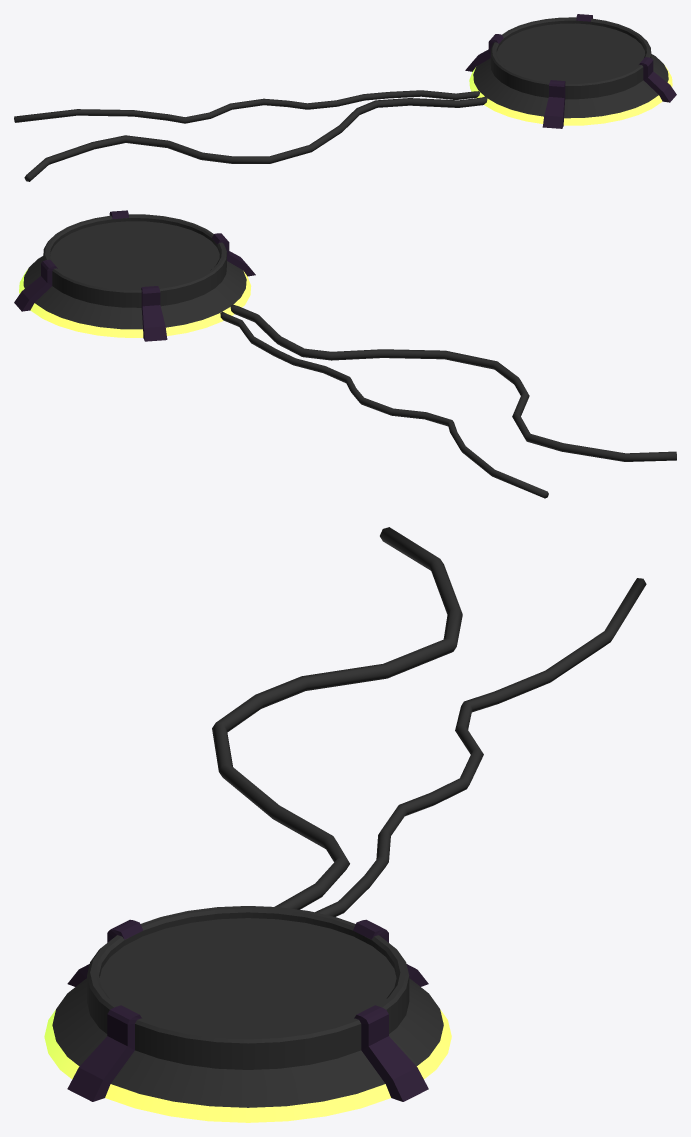
File: tank_stand.fbx
The picture shows the model from 3 angles, top to bottom: view 1: azimuth 30°, elevation 25°; view 2: azimuth 150°, elevation 25°; view 3: azimuth 270°, elevation 25°; orthographic projection. The views are drawn at different scales.
Visible parts, largest first — view 1: Cylinder.006; view 2: Cylinder.006; view 3: Cylinder.006.
Part boxes in pixels (<box>): Cylinder.006: <box>14,14,676,181</box>; Cylinder.006: <box>14,210,676,498</box>; Cylinder.006: <box>44,527,646,1122</box>.
Bounding box in the file's own units: 9.71 × 0.5284 × 4.23.
